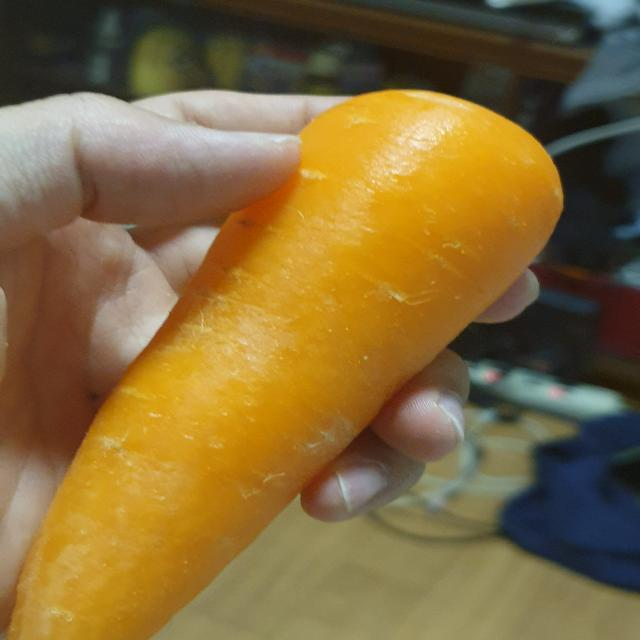carrot: (1, 77, 575, 640)
